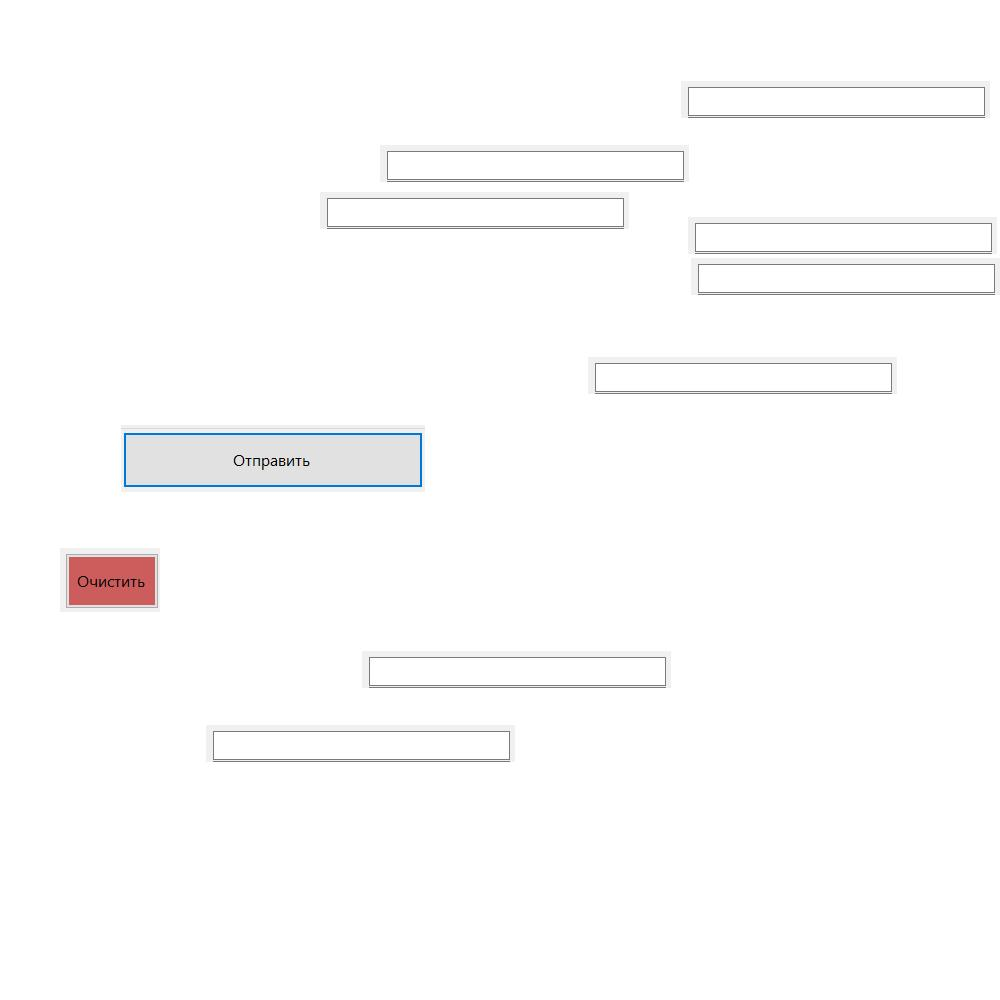Button: (121, 425, 425, 492), (60, 548, 160, 612)
EditText-: (380, 145, 689, 182), (691, 258, 1000, 295), (681, 81, 990, 118), (320, 192, 629, 229), (688, 217, 997, 254), (362, 651, 671, 688), (206, 725, 515, 762), (588, 357, 897, 394)
